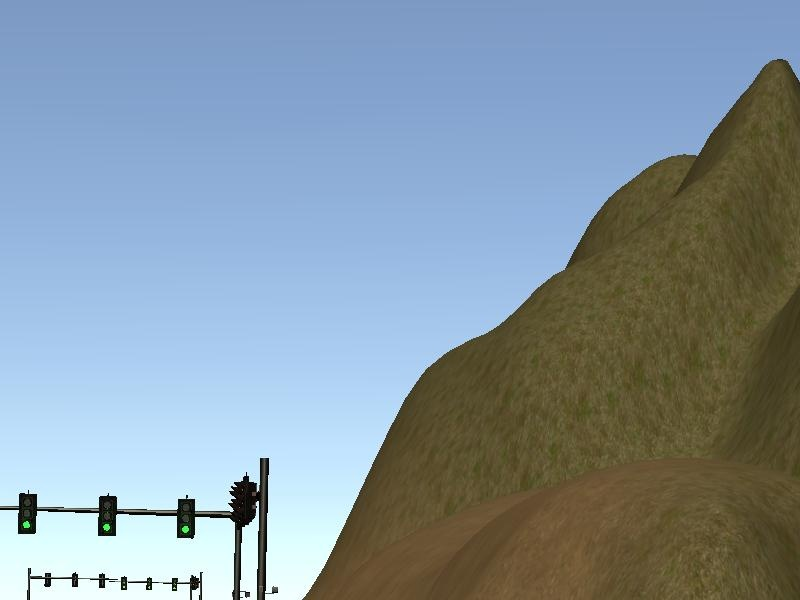GREEN: (17, 493, 37, 532), (98, 495, 117, 535), (177, 500, 195, 538)
